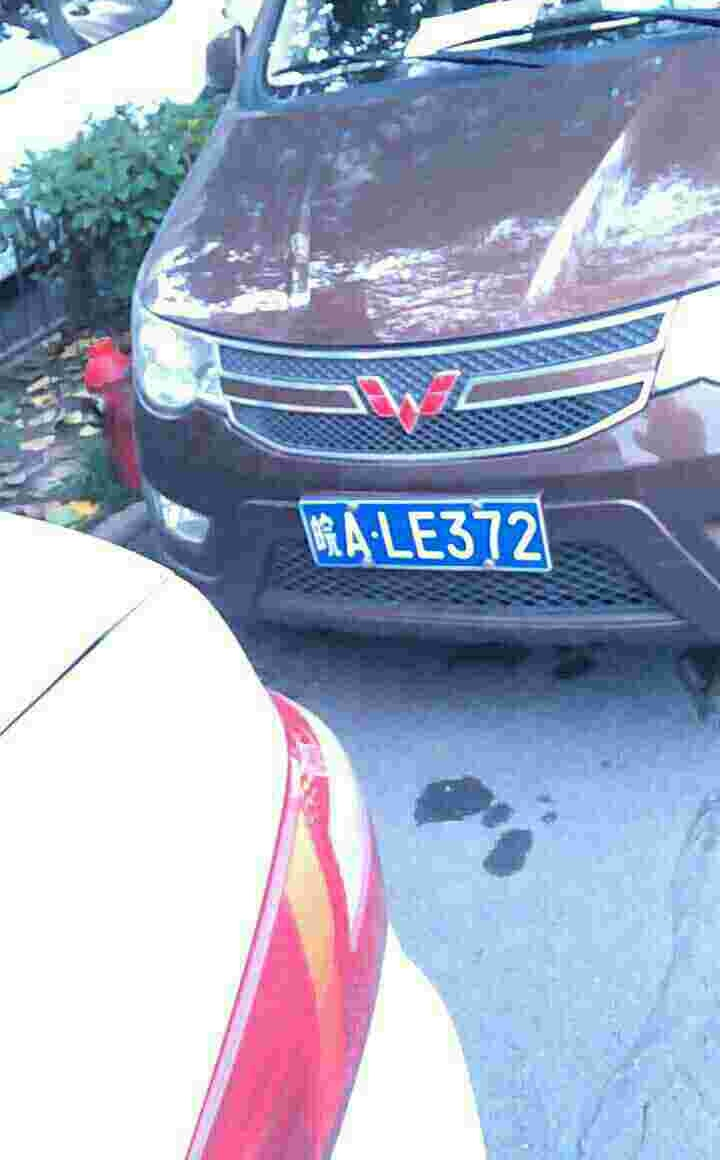license_plate: (302, 493, 547, 576)
